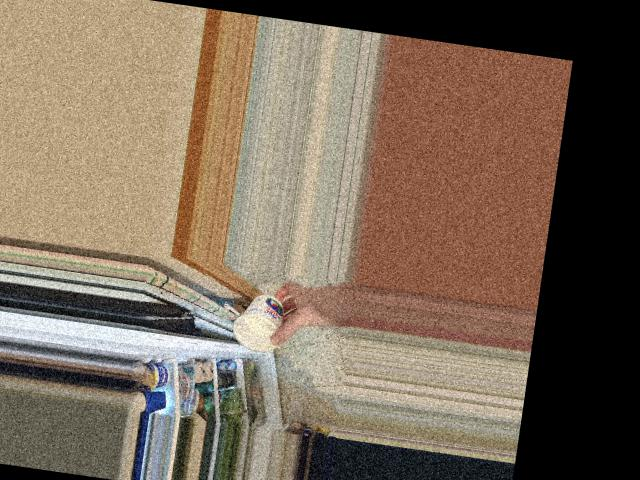cotage: (234, 291, 288, 353)
